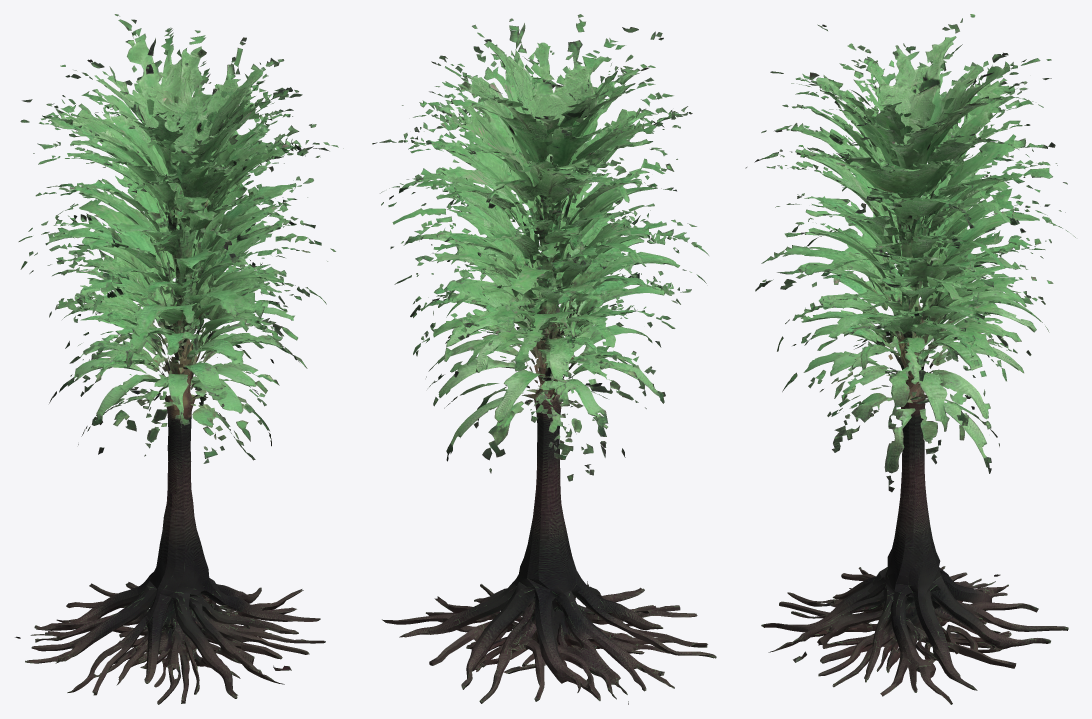
The model's file is raw_meshy_model.glb.
3 renders of one model, left to right at view 1: azimuth 30°, elevation 25°; view 2: azimuth 150°, elevation 25°; view 3: azimuth 270°, elevation 25°, orthographic. The views are drawn at different scales.
Size of the model in its own units: 0.9875 by 1.89 by 0.976.
1 material, 1 textured.
